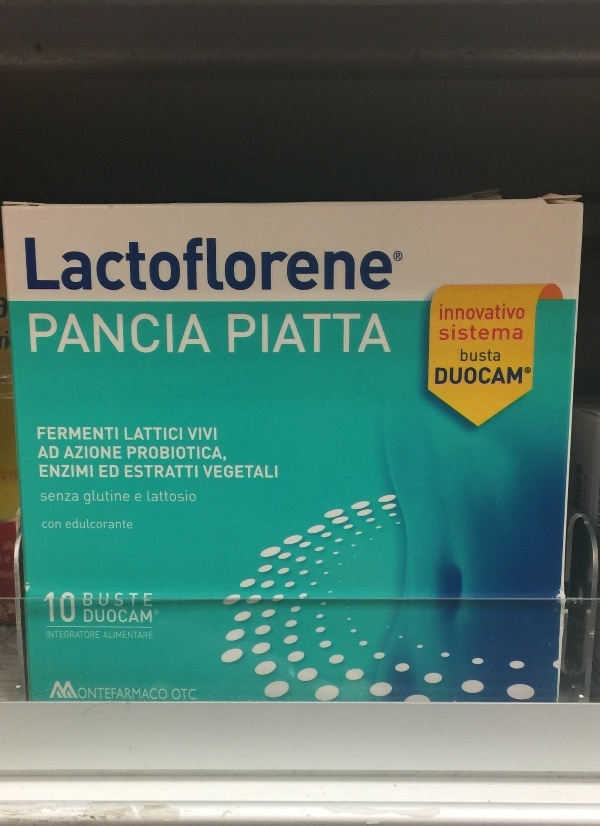text: (33, 234, 48, 299), (49, 234, 64, 299), (65, 234, 80, 299), (81, 234, 96, 299), (97, 234, 112, 299), (113, 234, 128, 299), (129, 234, 144, 299), (145, 234, 160, 299), (161, 234, 176, 299), (177, 234, 192, 299), (193, 234, 208, 299), (209, 234, 224, 299), (225, 234, 240, 299), (241, 234, 256, 299), (257, 234, 272, 299), (273, 234, 288, 299), (289, 234, 304, 299), (305, 234, 320, 299), (321, 234, 336, 299), (337, 234, 352, 299), (353, 234, 368, 299), (369, 234, 384, 299), (33, 313, 48, 357), (49, 313, 64, 357), (65, 313, 80, 357), (81, 313, 96, 357), (97, 313, 112, 357), (113, 313, 128, 357), (129, 313, 144, 357), (145, 313, 160, 357), (161, 313, 176, 357), (177, 313, 192, 357), (193, 313, 208, 357), (22, 234, 32, 299), (241, 312, 256, 355), (257, 312, 272, 355), (273, 312, 288, 355), (289, 312, 304, 355), (305, 312, 320, 355), (321, 312, 336, 355), (337, 312, 352, 355), (353, 312, 368, 355), (369, 312, 384, 355), (385, 234, 393, 299), (228, 312, 240, 355), (49, 593, 64, 622), (385, 312, 393, 355), (65, 593, 75, 622), (449, 302, 464, 321), (465, 302, 480, 321), (481, 302, 496, 321), (497, 302, 512, 321), (449, 367, 464, 386), (465, 367, 480, 386), (481, 367, 496, 386), (497, 367, 512, 386), (449, 324, 464, 341), (465, 324, 480, 341), (481, 324, 496, 341), (497, 324, 512, 341), (81, 445, 96, 461), (97, 445, 112, 461), (129, 446, 144, 462), (145, 446, 160, 462), (161, 446, 176, 462), (177, 446, 192, 462), (193, 446, 208, 462), (209, 446, 224, 462), (97, 490, 112, 506), (113, 490, 128, 506), (436, 367, 448, 386), (49, 426, 64, 441), (65, 426, 80, 441), (81, 426, 96, 441), (97, 426, 112, 441), (193, 427, 208, 442), (97, 593, 112, 608), (113, 593, 128, 608), (129, 593, 144, 608), (465, 348, 480, 363), (481, 348, 496, 363), (65, 465, 80, 479), (129, 427, 144, 441), (145, 427, 160, 441), (161, 427, 176, 441), (129, 465, 144, 479), (145, 465, 160, 479), (161, 465, 176, 479), (177, 465, 192, 479), (209, 465, 224, 479), (225, 465, 240, 479), (241, 465, 256, 479), (257, 465, 272, 479), (97, 610, 112, 624), (113, 610, 128, 624), (129, 610, 144, 624), (81, 687, 96, 701), (97, 687, 112, 701), (113, 687, 128, 701), (129, 687, 144, 701), (145, 687, 160, 701), (177, 687, 192, 701), (513, 302, 524, 321), (67, 445, 80, 461), (161, 490, 176, 503), (177, 490, 192, 503), (99, 465, 112, 479), (84, 593, 96, 608), (85, 490, 96, 506), (513, 367, 522, 386), (513, 324, 523, 341), (147, 490, 160, 503), (81, 465, 93, 479), (84, 610, 96, 624), (37, 426, 48, 441), (81, 519, 96, 530), (97, 519, 112, 530), (113, 519, 128, 530), (49, 465, 60, 479), (66, 519, 80, 530), (440, 302, 448, 321), (113, 445, 122, 461), (49, 446, 59, 460), (49, 494, 64, 503), (49, 631, 64, 640), (65, 631, 80, 640), (81, 631, 96, 640), (113, 631, 128, 640), (129, 631, 144, 640), (29, 313, 32, 357), (209, 313, 212, 357), (39, 465, 48, 479), (65, 494, 79, 503), (209, 427, 217, 442), (145, 593, 153, 608), (441, 324, 448, 341), (145, 610, 153, 624), (161, 687, 168, 701), (113, 426, 119, 441), (45, 593, 48, 622), (42, 446, 48, 460), (113, 465, 119, 479), (177, 427, 183, 441), (202, 465, 208, 479), (49, 522, 61, 529), (145, 631, 154, 640), (136, 493, 144, 503), (187, 427, 192, 442), (193, 465, 198, 479), (273, 465, 278, 479), (41, 494, 48, 503), (124, 427, 128, 441), (124, 465, 128, 479), (172, 687, 176, 701), (193, 687, 197, 701), (106, 631, 112, 640), (461, 348, 464, 363), (497, 348, 500, 363), (129, 519, 133, 530), (61, 465, 64, 479), (42, 522, 48, 529), (193, 490, 196, 503), (396, 253, 400, 260), (97, 631, 100, 640), (155, 611, 160, 615), (127, 446, 128, 462), (225, 446, 226, 462), (129, 490, 130, 506), (79, 687, 80, 701), (47, 631, 48, 640), (527, 368, 528, 373)
